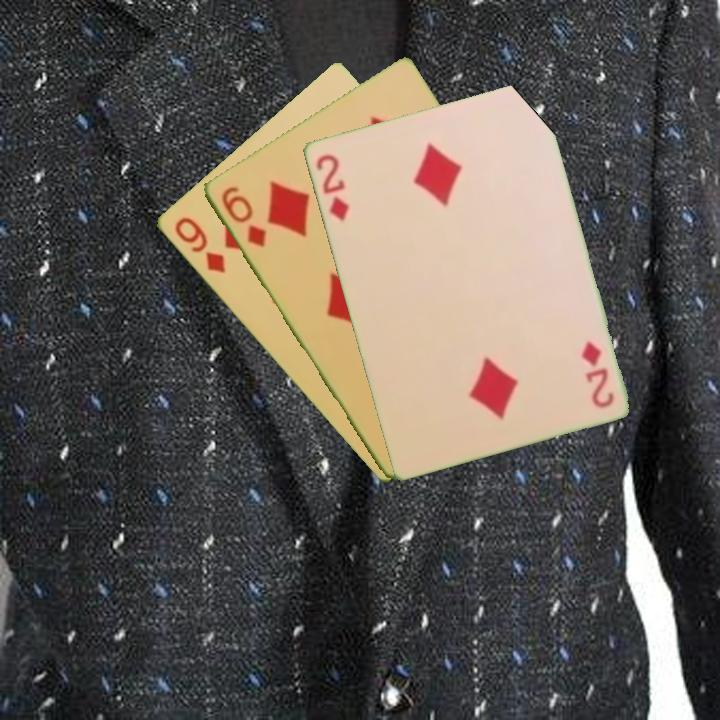2d: (312, 150, 352, 224), (577, 337, 617, 411)
6d: (217, 182, 269, 250)
9d: (170, 213, 228, 276)
